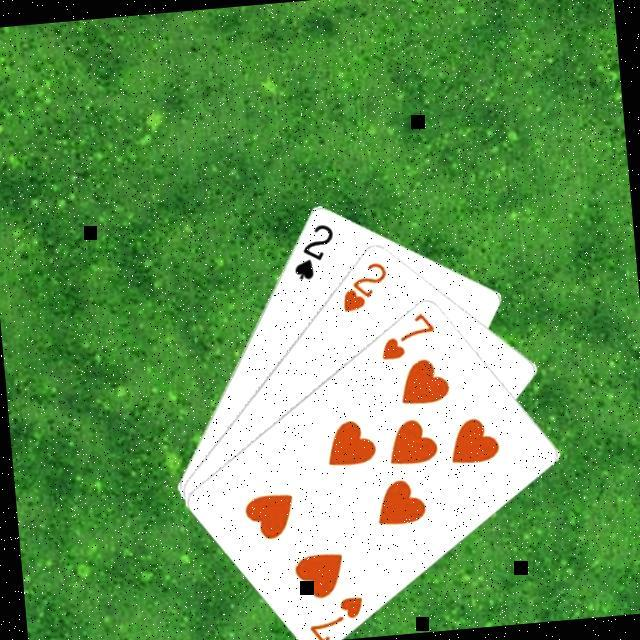2H: (336, 256, 394, 314)
2S: (288, 218, 341, 283)
7H: (376, 307, 441, 363), (304, 589, 370, 640)
